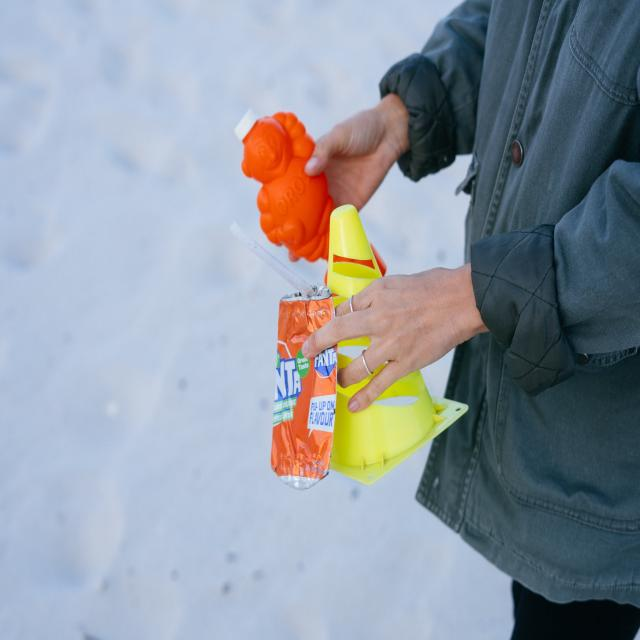metal: (278, 304, 325, 486)
plastic: (250, 124, 332, 250)
